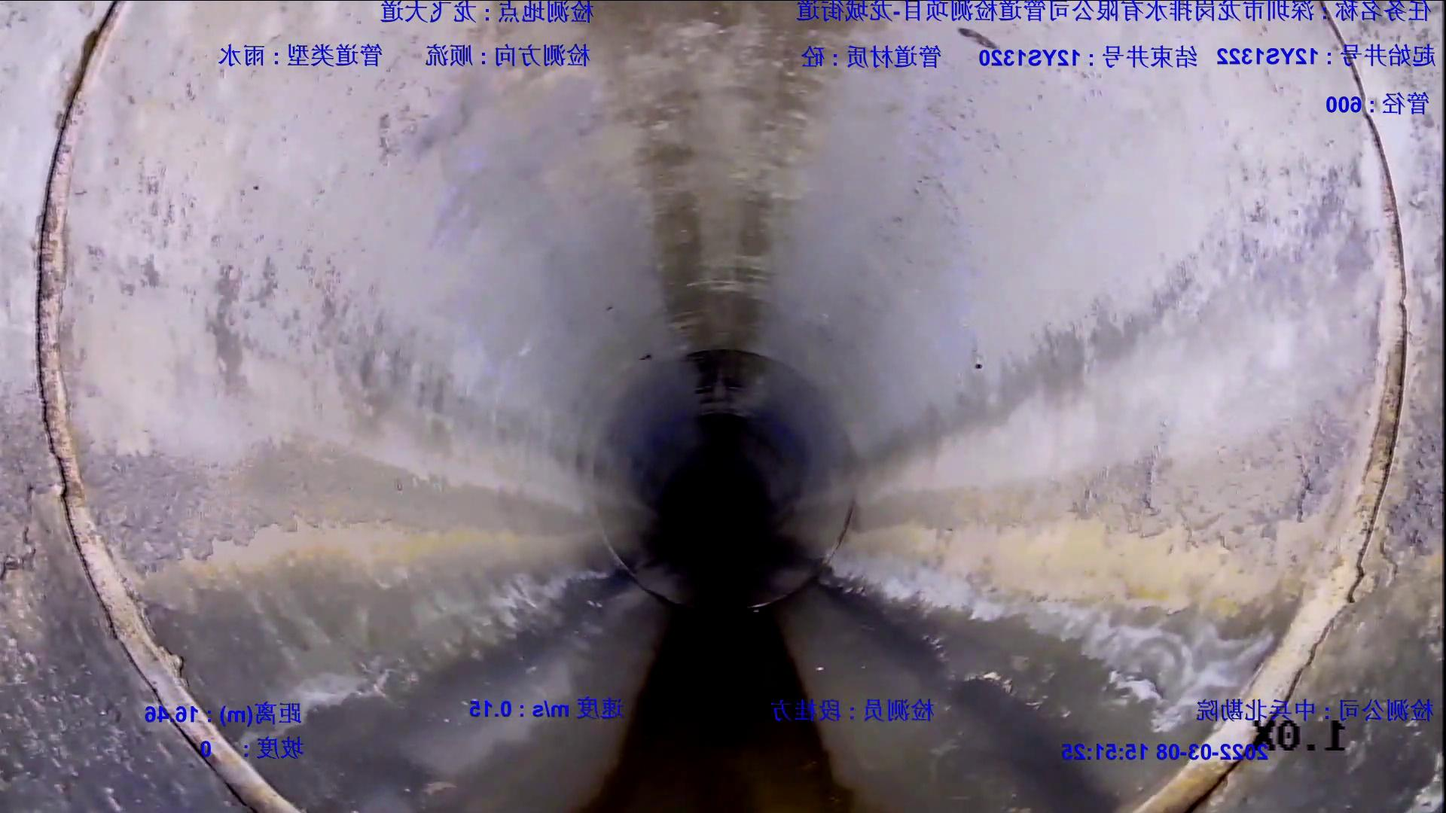CKTJ: (1200, 115, 1410, 750), (36, 2, 197, 712), (169, 723, 303, 812), (1118, 757, 1240, 812)
